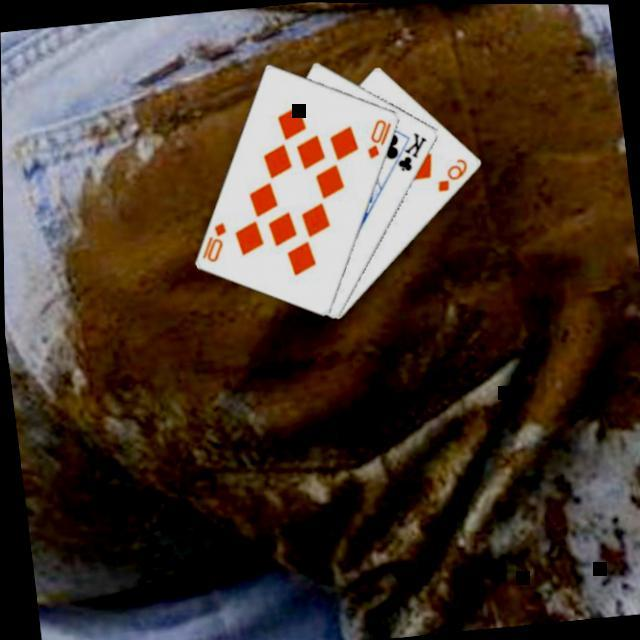10D: (196, 216, 234, 264), (362, 113, 399, 160)
6D: (432, 152, 474, 192)
KC: (384, 126, 434, 173)
